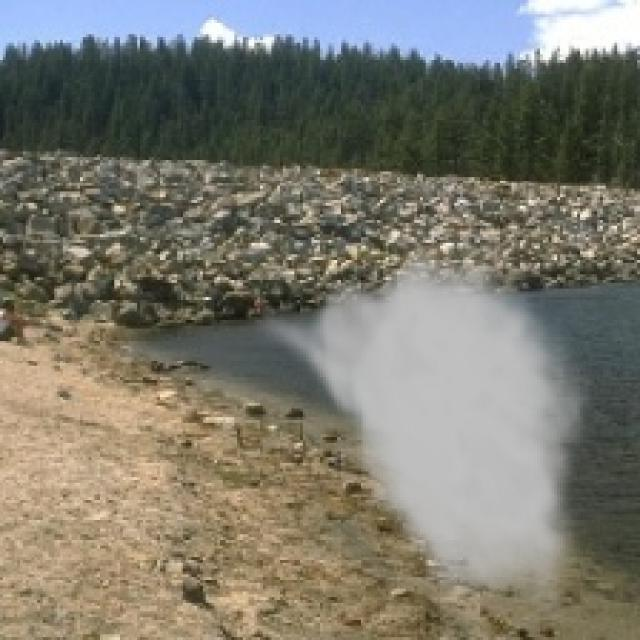smoke: (248, 234, 592, 623)
